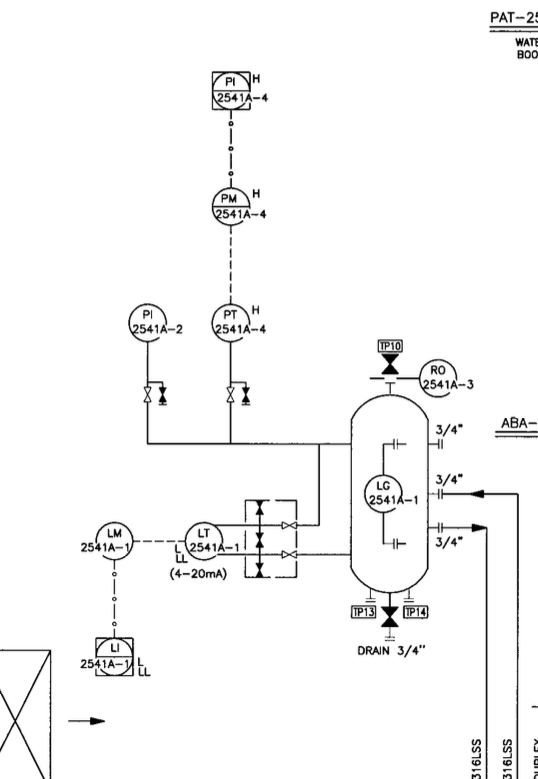Instrument-offset: (126, 297, 188, 347), (360, 470, 422, 517), (74, 517, 134, 563), (416, 356, 476, 401), (208, 303, 270, 344), (179, 520, 240, 560), (212, 188, 271, 227)
Instrument-square-offset: (78, 631, 155, 682), (208, 65, 272, 115)
